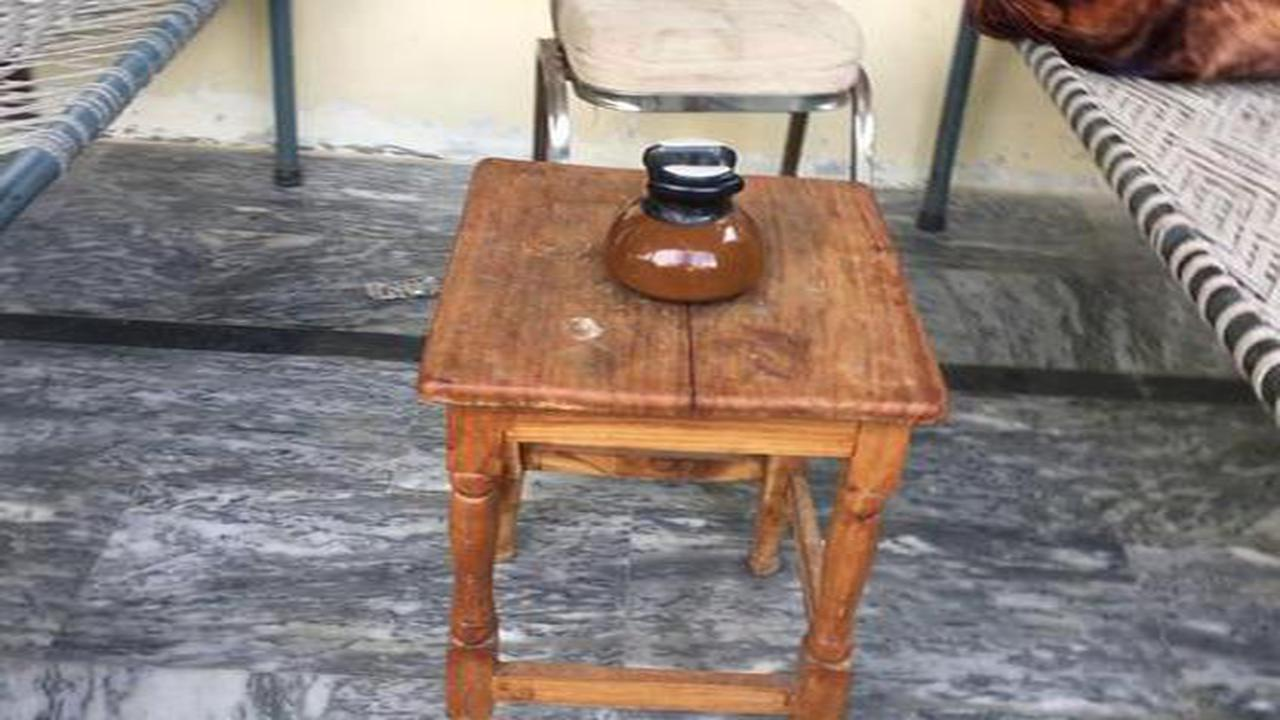insulator_pin: (573, 117, 785, 316)
